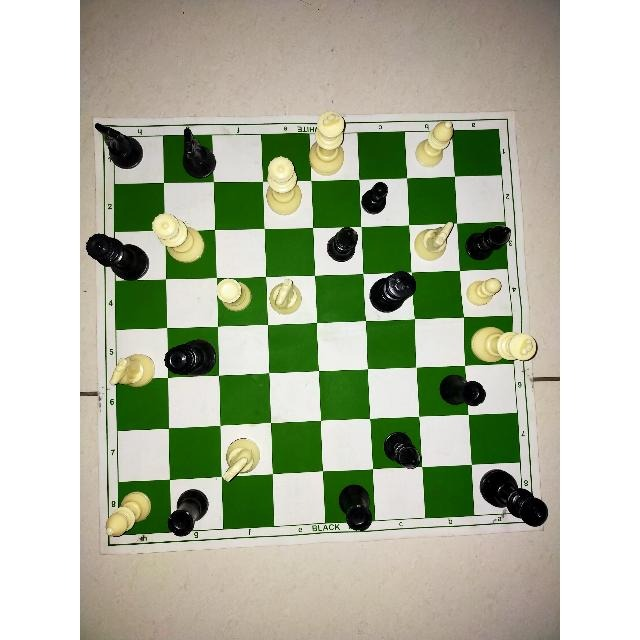black-bishop: (461, 222, 513, 264), (380, 427, 426, 472), (323, 225, 362, 268)
black-king: (475, 464, 551, 529), (365, 270, 419, 316)
black-knight: (90, 119, 147, 174), (176, 123, 220, 179)
black-pawn: (359, 179, 395, 218)
black-queen: (81, 230, 153, 284), (161, 338, 217, 382)
black-rook: (164, 488, 214, 538), (434, 370, 492, 412), (335, 482, 379, 532)
white-bishop: (104, 485, 154, 543), (411, 116, 459, 170)
white-king: (309, 111, 353, 179), (471, 325, 539, 365)
white-knight: (411, 218, 457, 268), (221, 430, 261, 485), (107, 350, 157, 392), (268, 277, 306, 320)
white-pawn: (463, 274, 503, 309)
white-queen: (149, 212, 212, 268), (260, 149, 305, 220)
white-rook: (213, 276, 253, 315)
